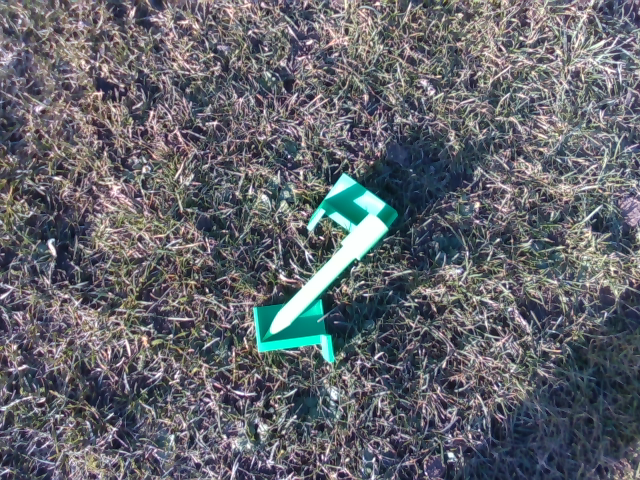Probe: (258, 213, 391, 344)
